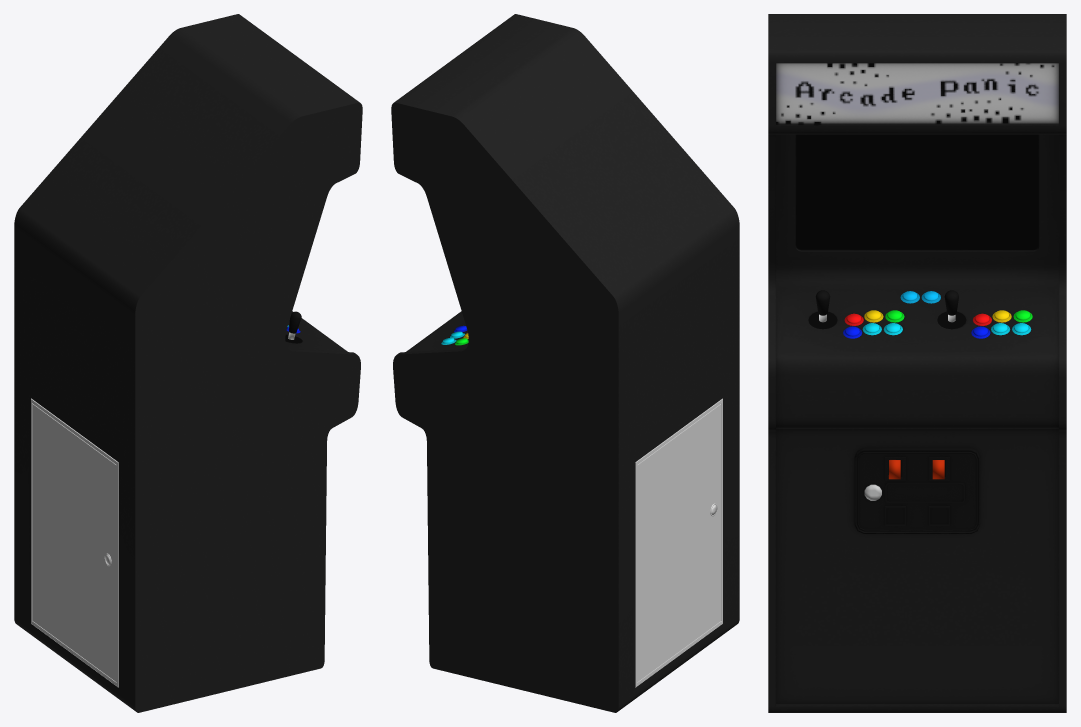
File: ArcadeMachine.fbx
3 views of the same model, side by side, from view 1: azimuth 30°, elevation 25°; view 2: azimuth 150°, elevation 25°; view 3: azimuth 270°, elevation 25° (orthographic). The views are drawn at different scales.
Visible parts, largest first — view 1: ArcadeMachine, Door, BackCabinet; view 2: ArcadeMachine, Door, BackCabinet; view 3: ArcadeMachine, CoinSlot.
Boxes of the visible parts, bbox=[...] form: ArcadeMachine: bbox=[14, 14, 362, 712]; Door: bbox=[32, 403, 116, 681]; BackCabinet: bbox=[31, 398, 118, 687]; ArcadeMachine: bbox=[391, 14, 739, 712]; Door: bbox=[637, 403, 721, 681]; BackCabinet: bbox=[635, 398, 722, 687]; ArcadeMachine: bbox=[768, 14, 1066, 712]; CoinSlot: bbox=[854, 448, 980, 533].
Bounding box in the file's own units: 172 × 400 × 158.
